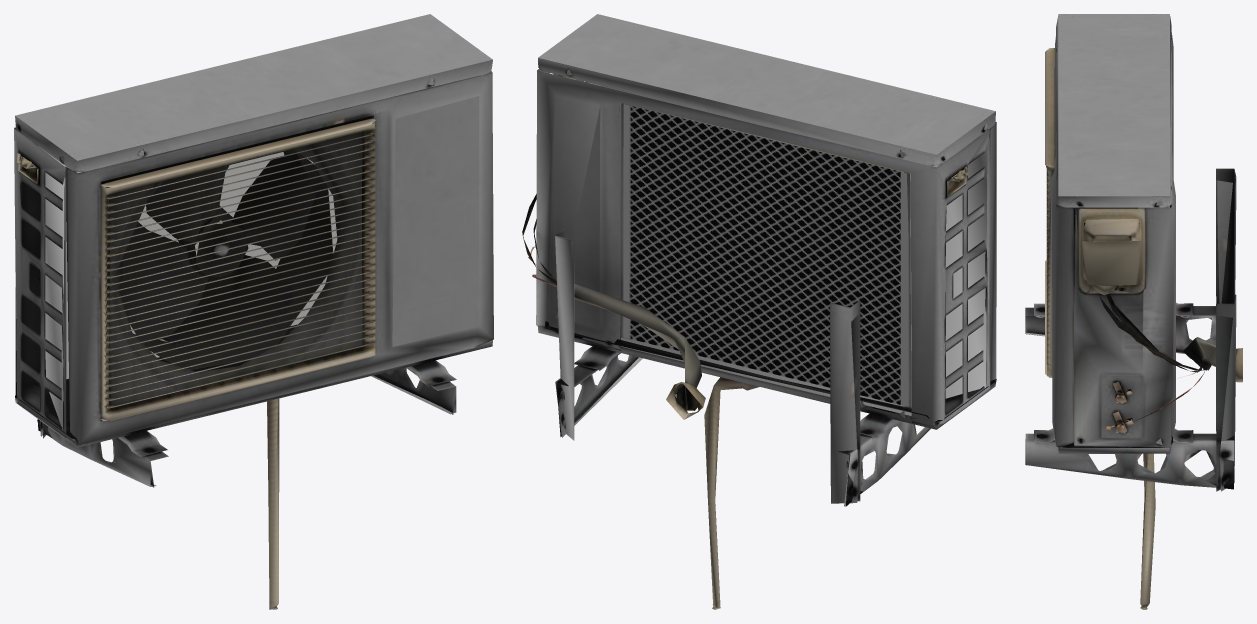
File: aircon.gltf
The picture shows the model from 3 angles, left to right: view 1: azimuth 30°, elevation 25°; view 2: azimuth 150°, elevation 25°; view 3: azimuth 270°, elevation 25°; orthographic projection. The views are drawn at different scales.
Visible parts, largest first — view 1: aircon; view 2: aircon; view 3: aircon.
Part boxes in pixels (x1,y1,x2,y2): aircon: (14,14,493,609); aircon: (522,14,996,609); aircon: (1025,14,1242,609).
Bounding box in the file's own units: 0.8 × 0.9265 × 0.3748.
2 materials, 2 textured.
